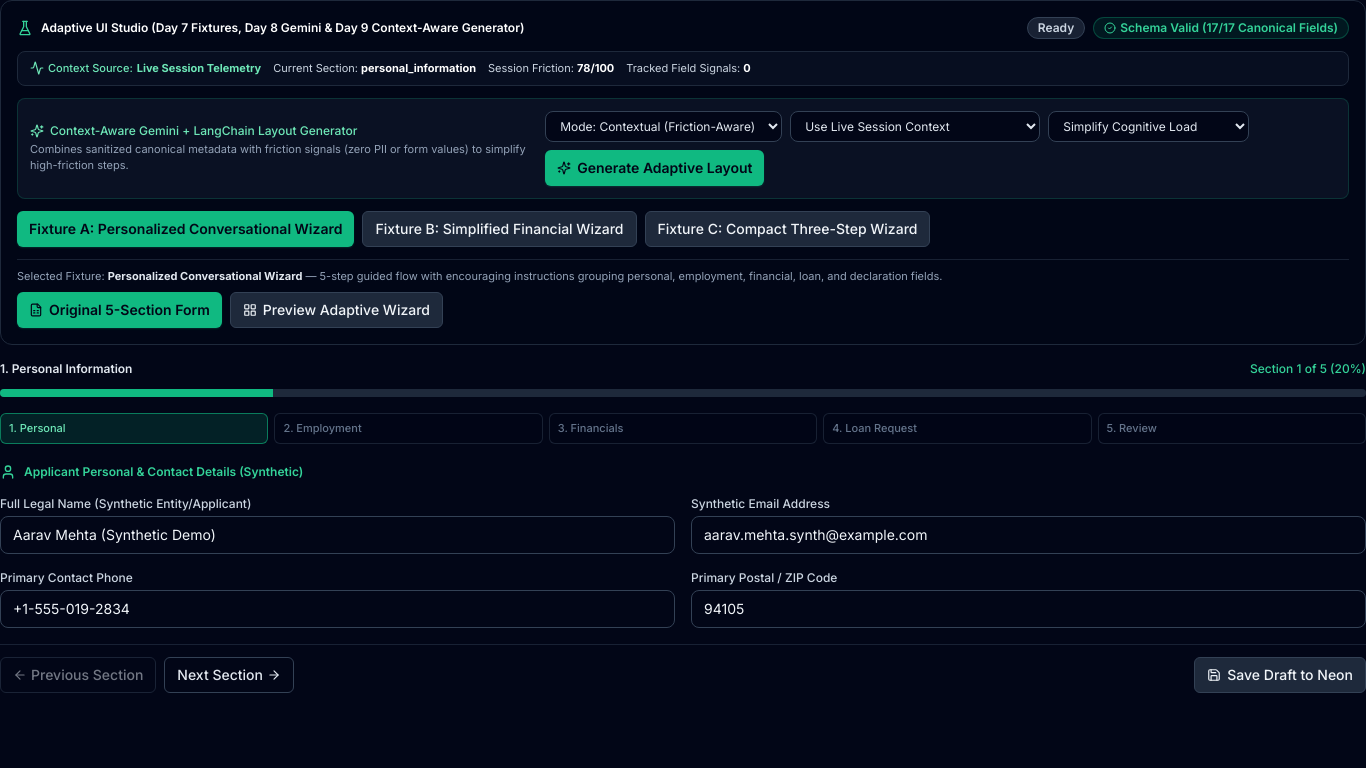
Test: Day 8 & 9: Frontend Adaptive UI Studio & Contextual Generation Integration › 1–6. runs contextual simulation scenario, displays adaptation summary, preserves form values, and keeps fixtures working
Replace the text in the field labelled "Full Legal Name (Synthetic Entity/Applicant)" with "Sophia Lindqvist": coordinates (338, 534) [0, 516, 675, 554]
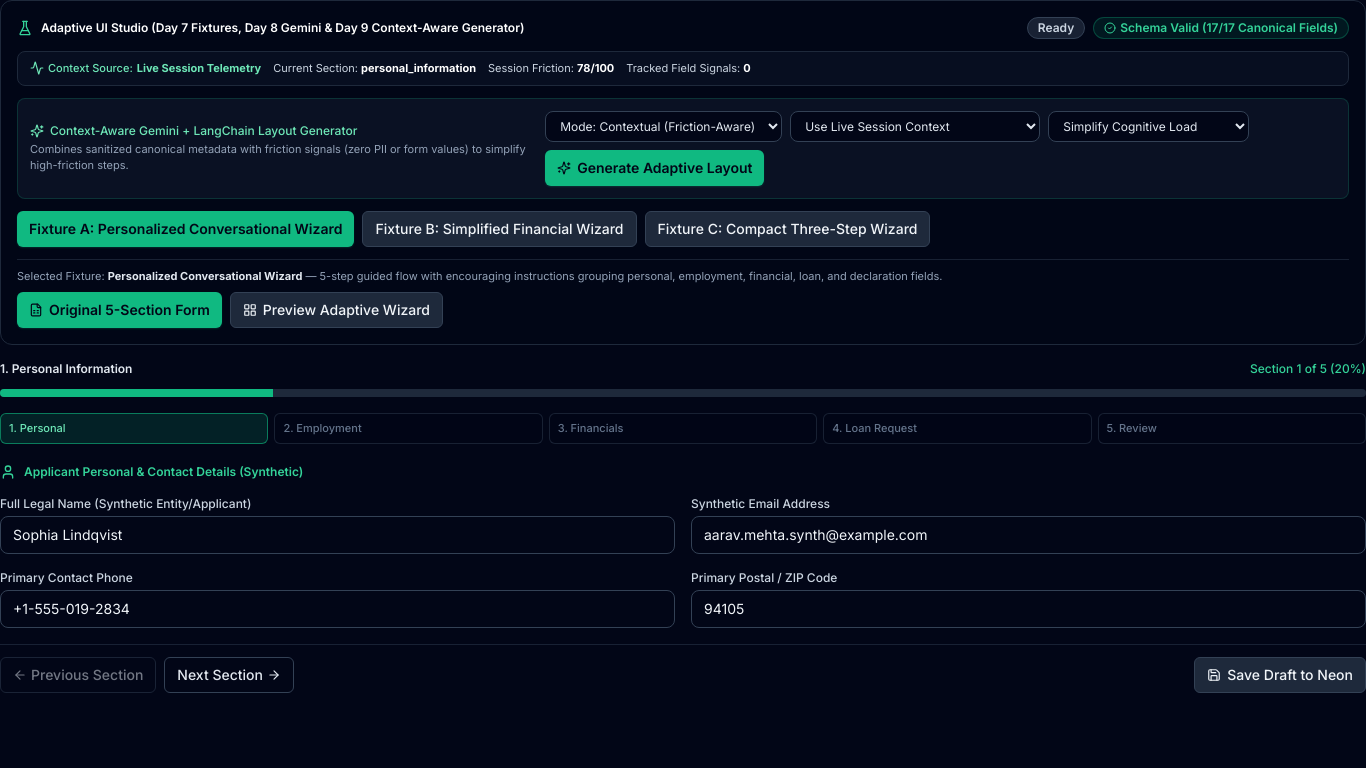
// Select Scenario 1: Financial Info Friction
Select "Sim 1: Financial Info Friction" in the dropdown with test id "contextual-scenario-select": coordinates (915, 126) [790, 110, 1040, 142]
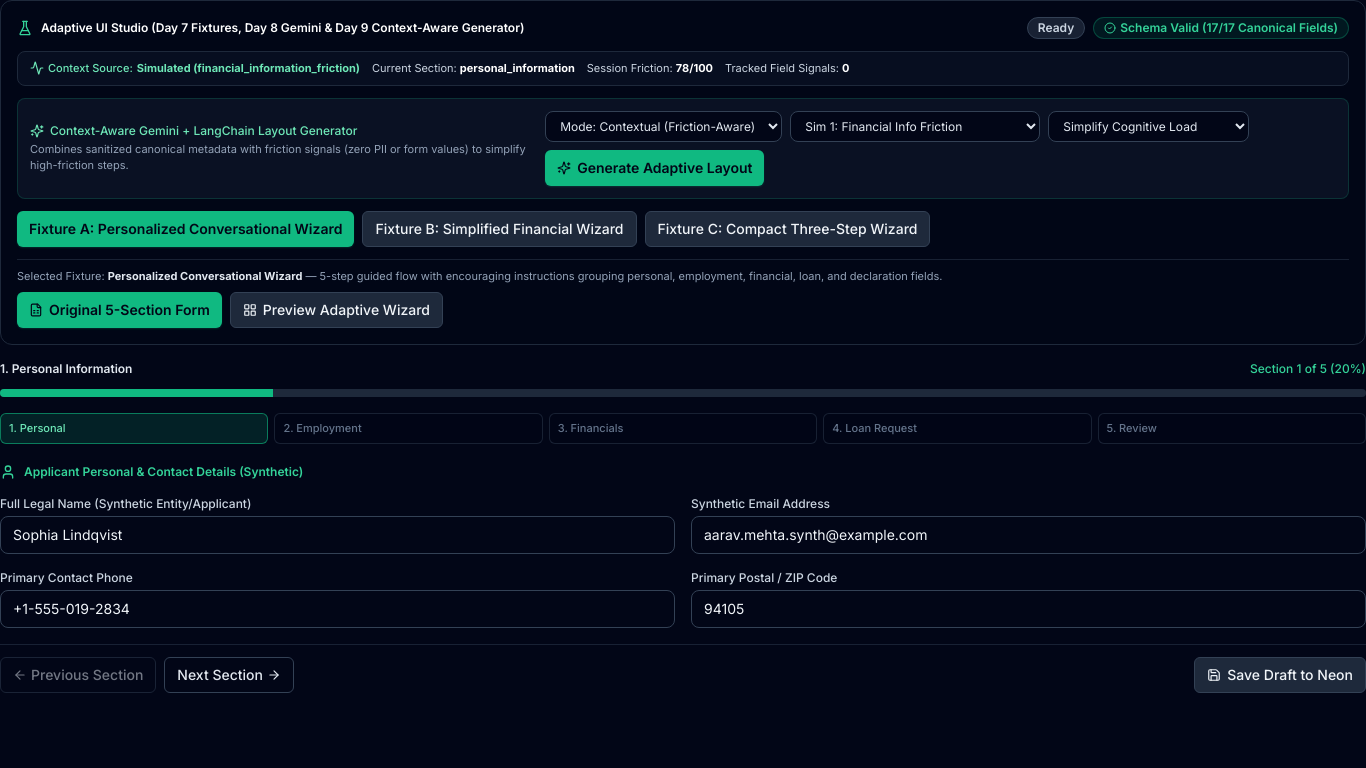
// Click "Generate Adaptive Layout"
Click the button with test id "generate-adaptive-layout-btn": coordinates (655, 168) [545, 150, 764, 186]
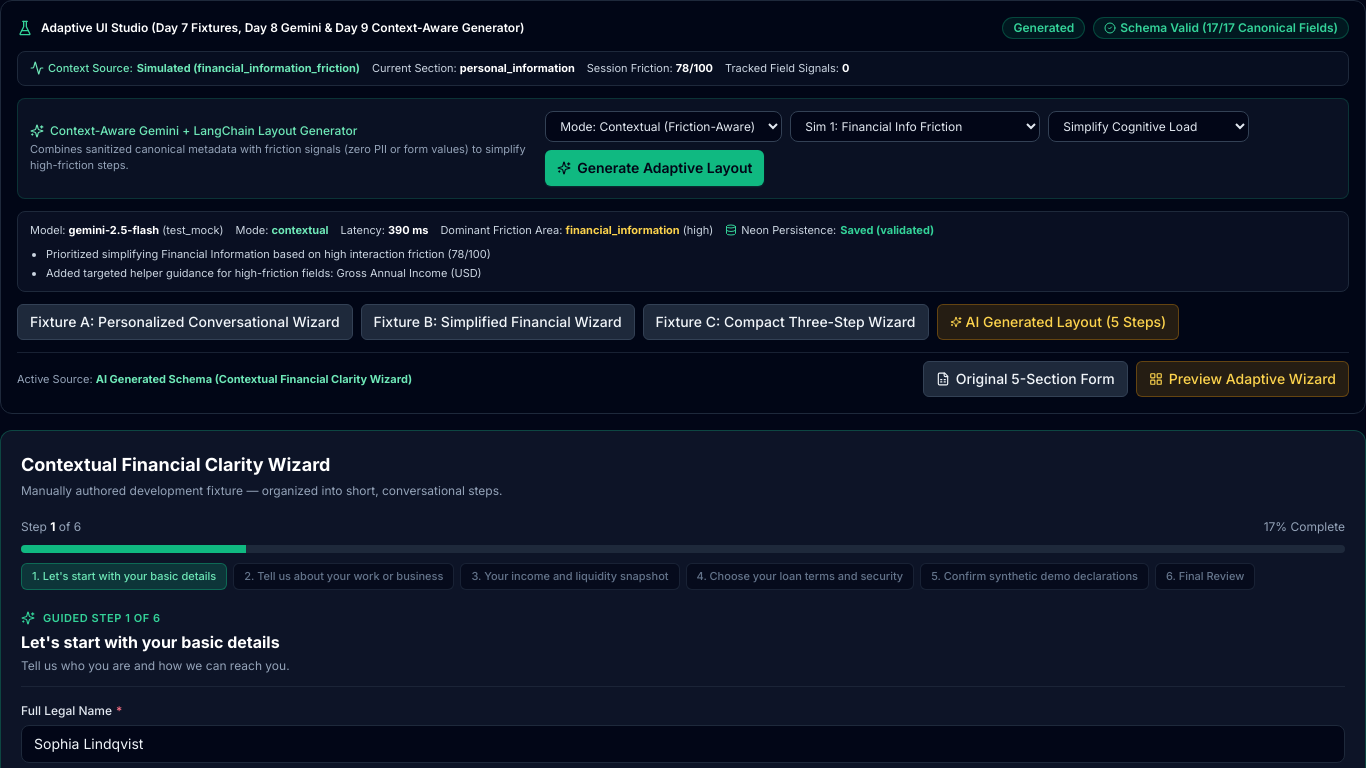
Expected: the text with test id "ai-generation-status-badge" reads "Generated", [1014, 20, 1074, 35]
Expected: the text with test id "dominant-friction-area-value" reads "financial_information", [565, 222, 680, 236]
Expected: the list with test id "adaptation-summary-list" shows "Prioritized simplifying Financial Information", [46, 247, 491, 261]
// Manual development fixtures continue working seamlessly
Click the button with test id "select-fixture-compact_wizard": coordinates (786, 322) [643, 304, 928, 340]
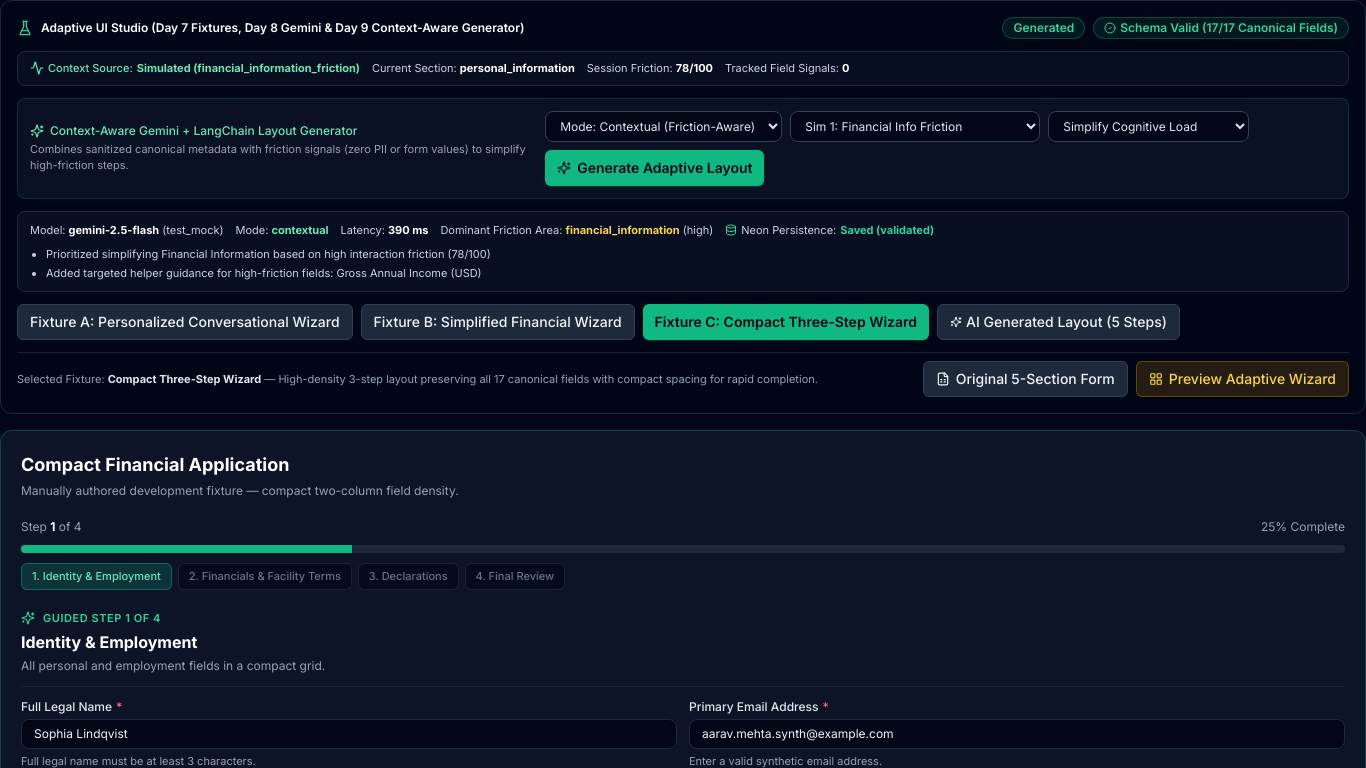
Expected: the heading with test id "adaptive-wizard-title" reads "Compact Financial Application", [21, 454, 289, 475]
